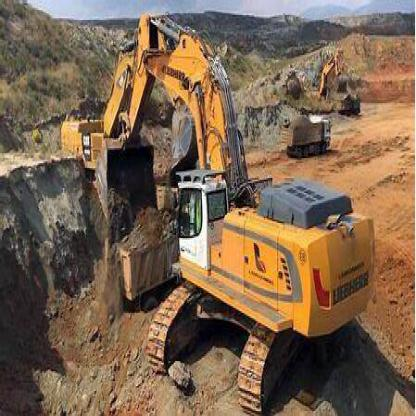excavator: (86, 15, 369, 414)
